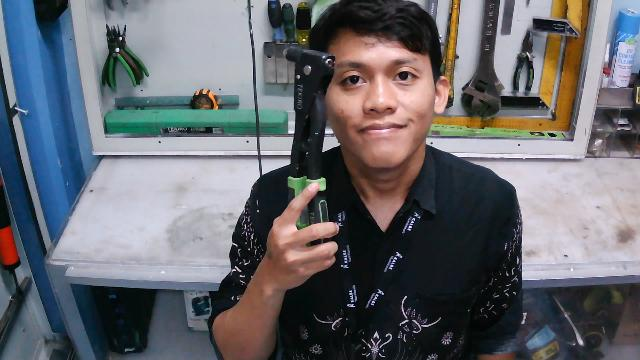tang_rivet: (282, 43, 337, 258)
